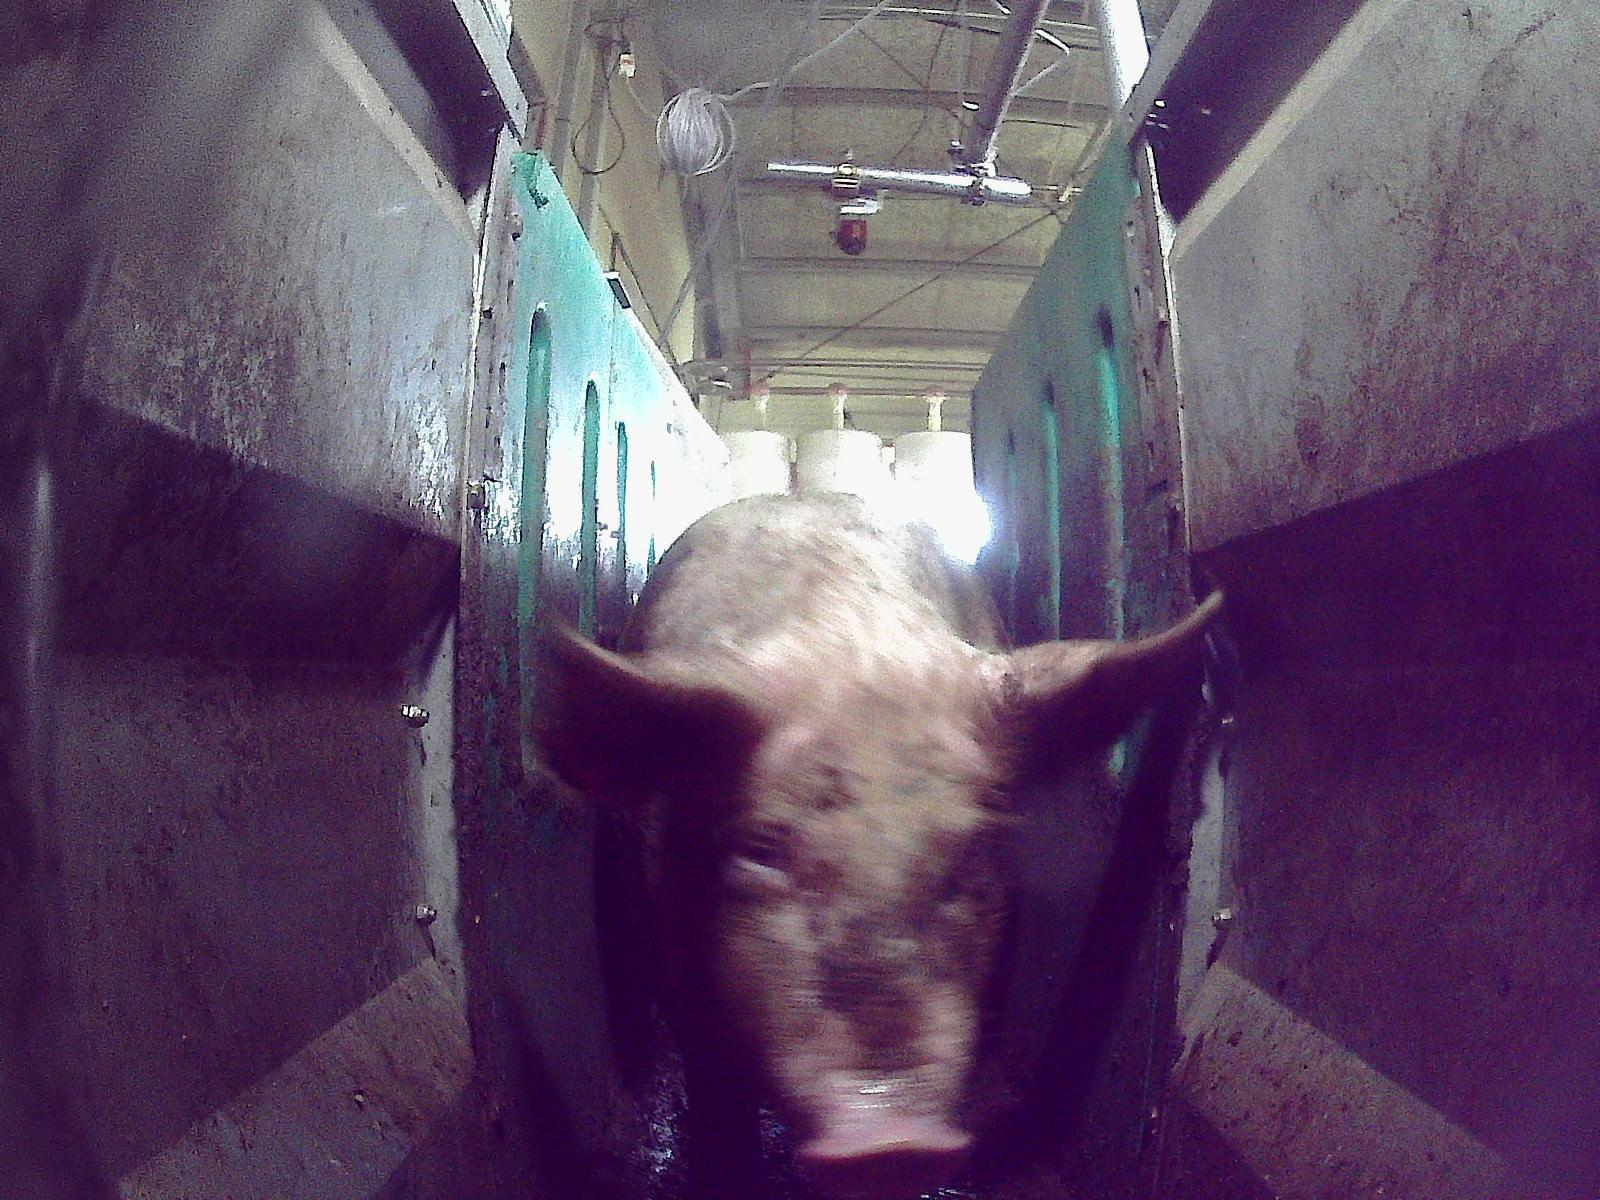Face: (674, 678, 1015, 1195)
